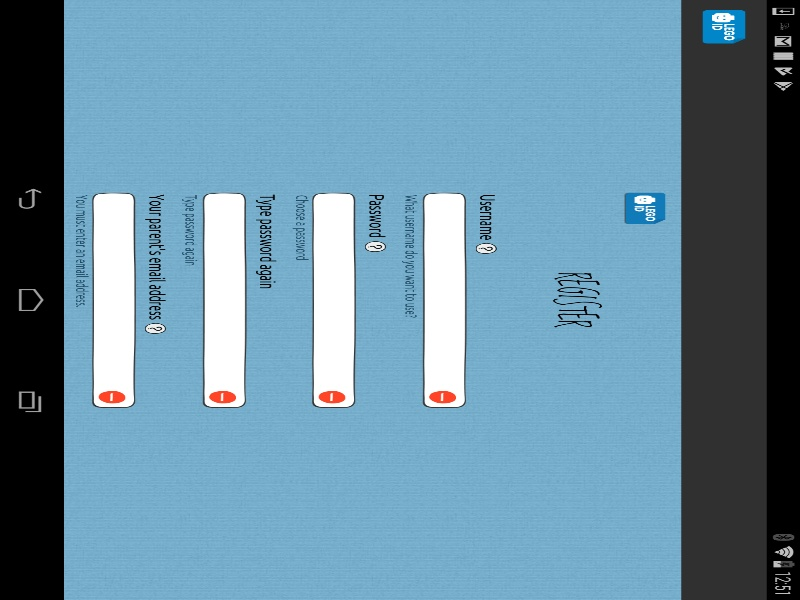Button: (485, 358, 797, 391)
